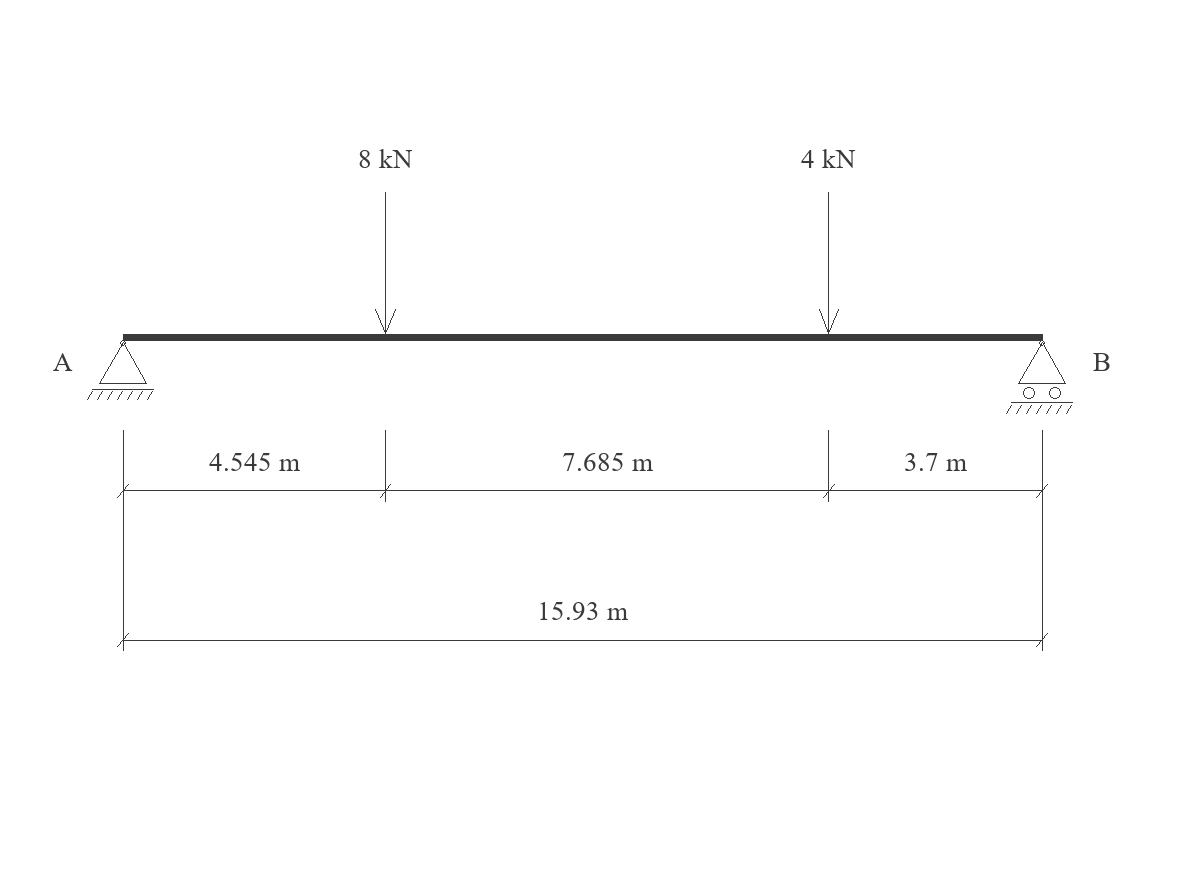pin_support: (87, 340, 154, 400)
point_load: (375, 192, 396, 334), (819, 192, 839, 334)
roller_support: (1006, 340, 1073, 414)
